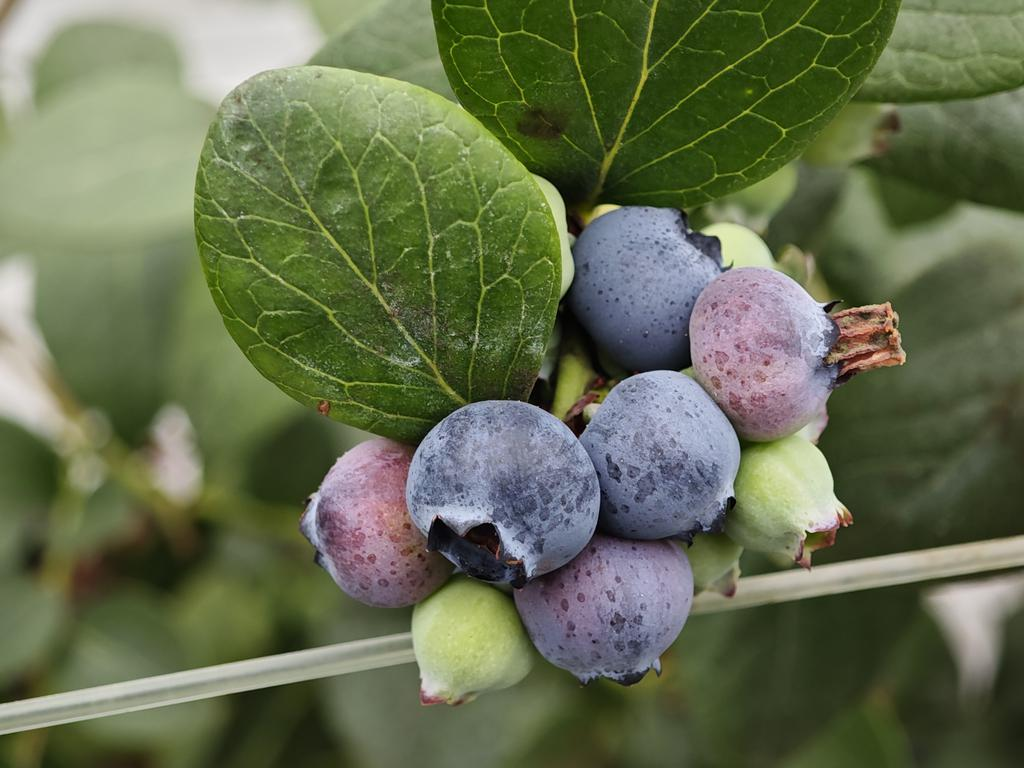RipeBlueBerry: (411, 396, 602, 581)
Semi-RipeBlueBerry: (694, 266, 866, 443)
UnripeBlueBerry: (577, 206, 717, 371)
